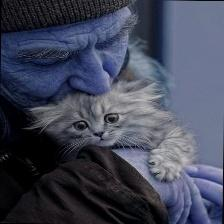kedo: (27, 79, 199, 184)
